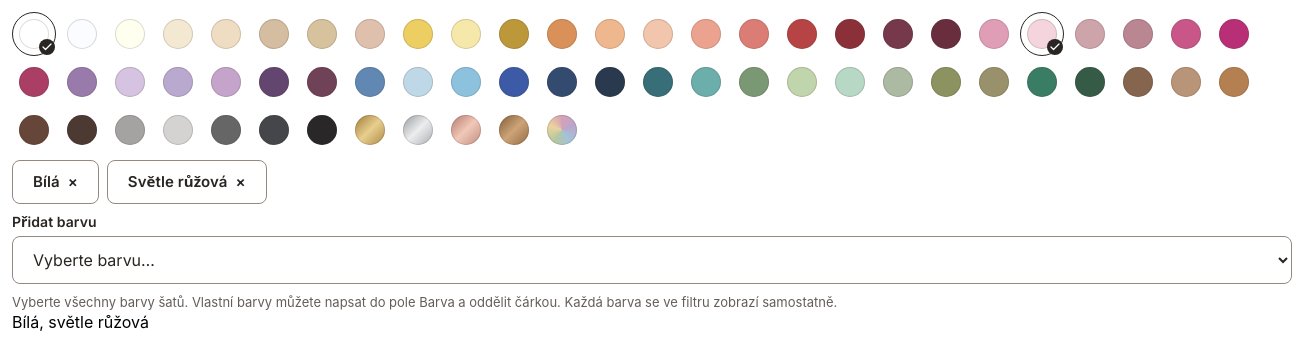
adds and removes colors in the existing save field and restores focus
Expected: the button named "Šampaňská" is shown, [204,12,248,56]
Expected: the button named "Smaragdová" is shown, [1020,60,1064,104]
Select "Červená" in the dropdown labelled "Přidat barvu" at (652,260), box [12,236,1292,284]
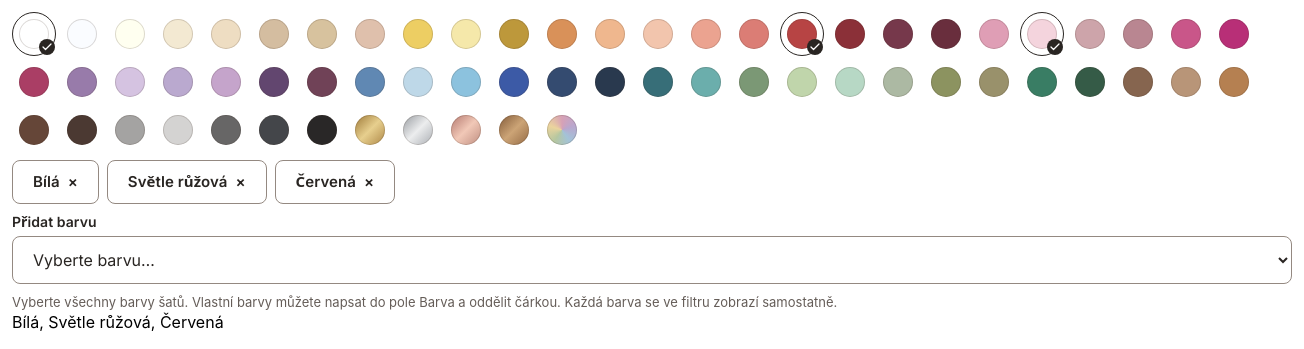
Expected: the text "Bílá, Světle růžová, Červená" is shown, [12,312,224,332]
Click the button with aria-label "Odebrat barvu Bílá" at (55,182), box [12,160,99,204]
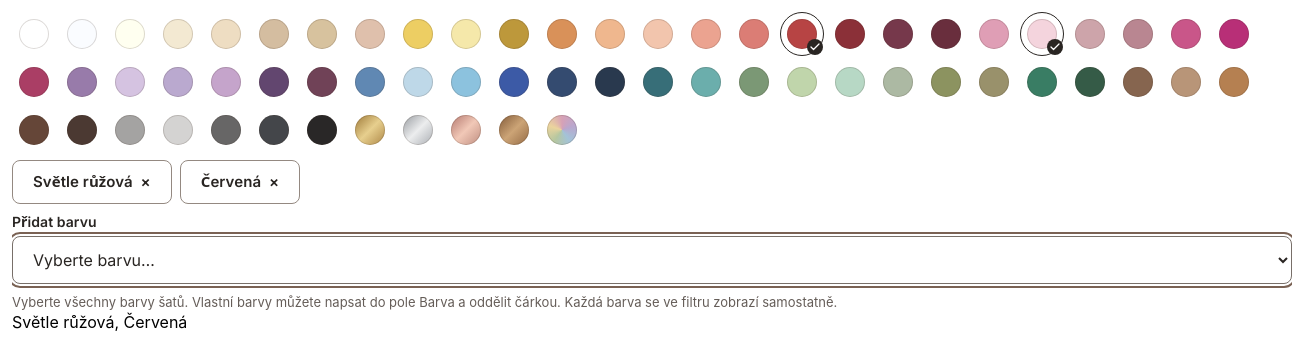
Expected: the text "Světle růžová, Červená" is shown, [12,312,187,332]
